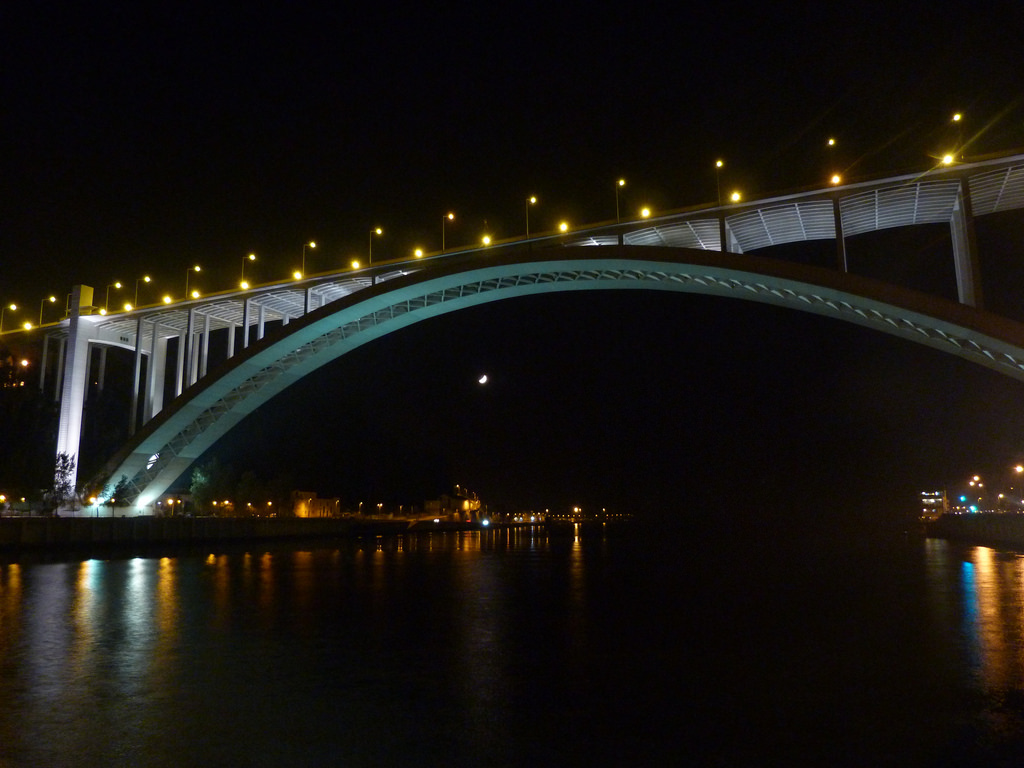arrabida: (0, 149, 1023, 521)
